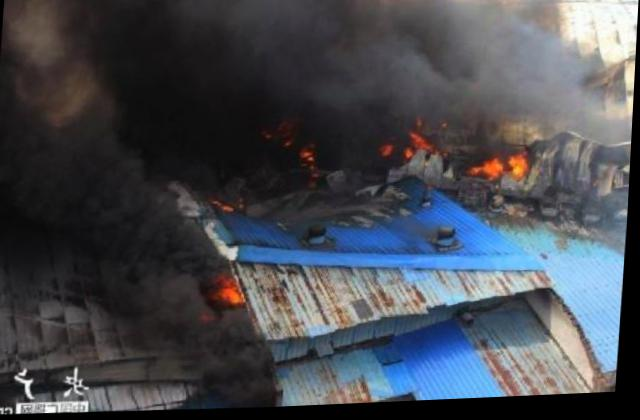fire: (220, 276, 252, 308), (485, 159, 508, 183), (512, 156, 531, 180), (416, 135, 437, 153), (468, 168, 485, 178)
